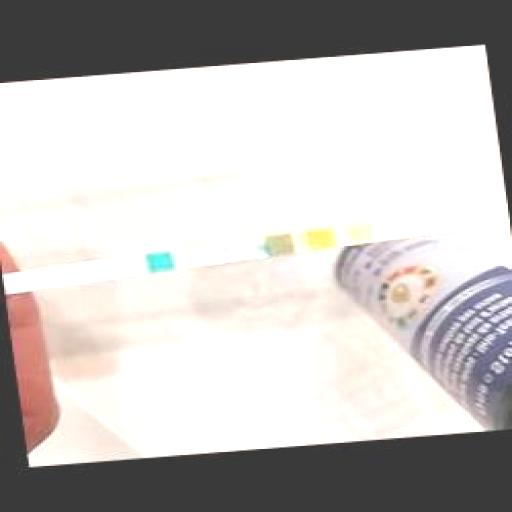Bilirubin: (190, 247, 212, 265)
Blood: (310, 230, 334, 248)
Glucose: (150, 252, 172, 272)
Ketone: (230, 241, 252, 259)
Leukocytes: (500, 204, 508, 223)
Nitrite: (468, 208, 492, 226)
Protein: (390, 219, 416, 236)
SpGravity: (270, 236, 292, 254)
Urobilinogen: (426, 212, 456, 230)
pH: (351, 224, 375, 240)
strip: (3, 202, 509, 293)
